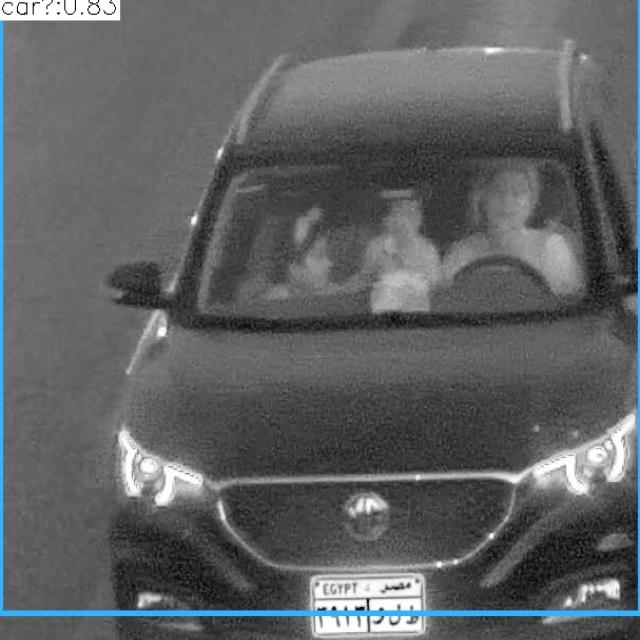windshield: (175, 148, 612, 311)
